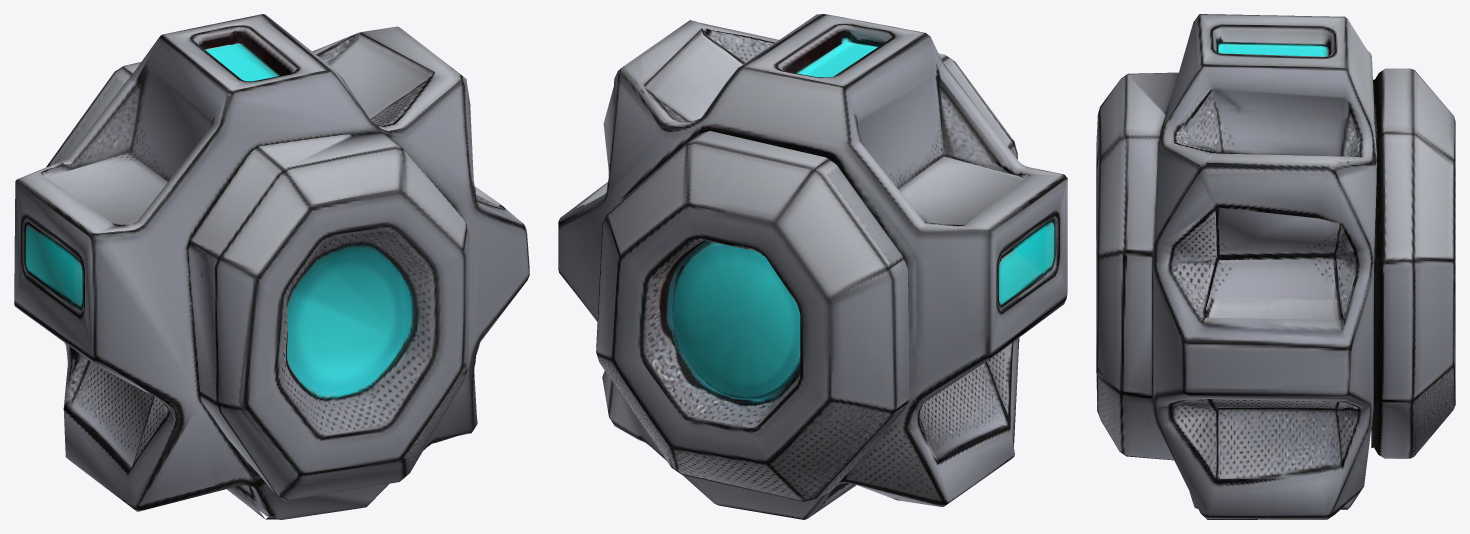
The model's file is core_63.glb.
The picture shows the model from 3 angles, left to right: view 1: azimuth 30°, elevation 25°; view 2: azimuth 150°, elevation 25°; view 3: azimuth 270°, elevation 25°; orthographic projection. The views are drawn at different scales.
Parts seen in each view (by area): view 1: tripo_node_97d01015-d726-4435-9f71-3e631a80e95e; view 2: tripo_node_97d01015-d726-4435-9f71-3e631a80e95e; view 3: tripo_node_97d01015-d726-4435-9f71-3e631a80e95e.
Boxes of the visible parts, x1,y1,x2,y2 form: tripo_node_97d01015-d726-4435-9f71-3e631a80e95e: (14, 14, 529, 519); tripo_node_97d01015-d726-4435-9f71-3e631a80e95e: (558, 14, 1067, 519); tripo_node_97d01015-d726-4435-9f71-3e631a80e95e: (1096, 14, 1455, 519).
Size of the model in its own units: 0.0974 by 0.0962 by 0.0722.
Materials: 1 (1 with a texture image).
